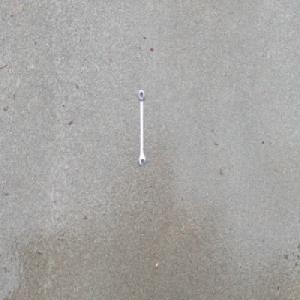Wrench: (137, 88, 145, 166)
